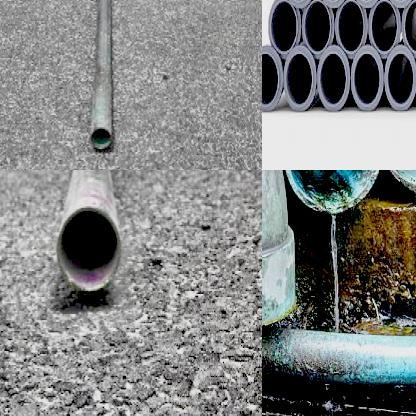pipe: (58, 204, 122, 292), (283, 170, 382, 213), (351, 45, 384, 111), (317, 46, 350, 112), (384, 44, 416, 110), (284, 46, 316, 112), (301, 0, 334, 59), (268, 0, 301, 58), (335, 0, 367, 59), (368, 0, 400, 58), (262, 45, 282, 111), (401, 0, 416, 58), (90, 127, 112, 150)
